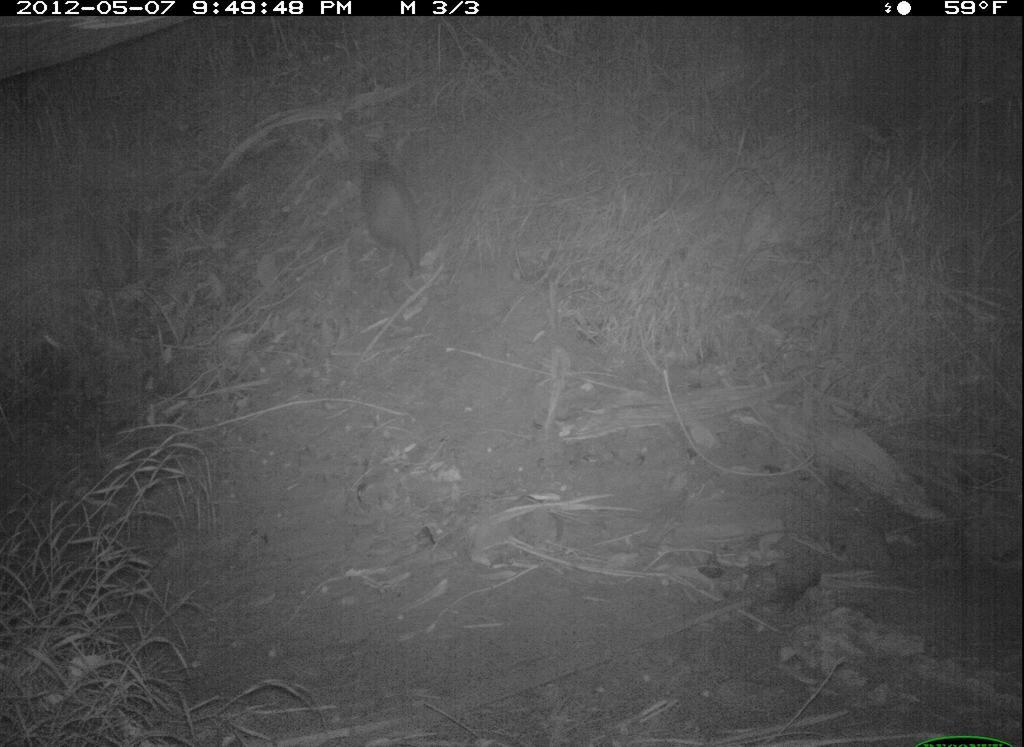opossum: (329, 145, 472, 296)
